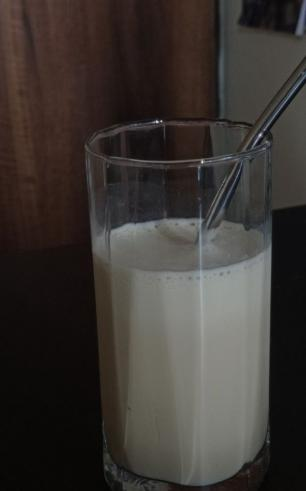produk_susu: (100, 138, 261, 482)
